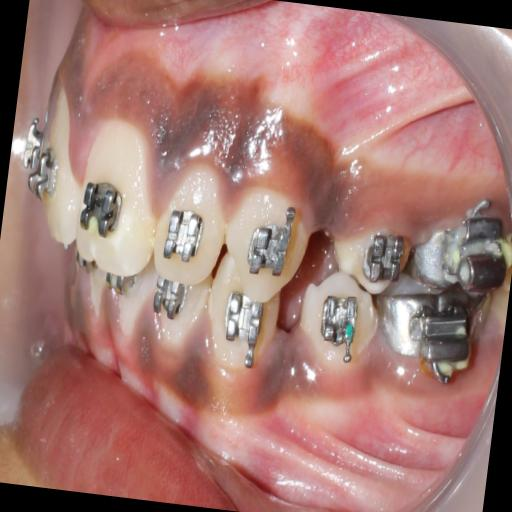correct_brace: (328, 200, 416, 313), (240, 208, 296, 284), (75, 173, 128, 243), (158, 202, 210, 263)
incorrect_brace: (150, 149, 236, 291), (358, 226, 408, 284)
